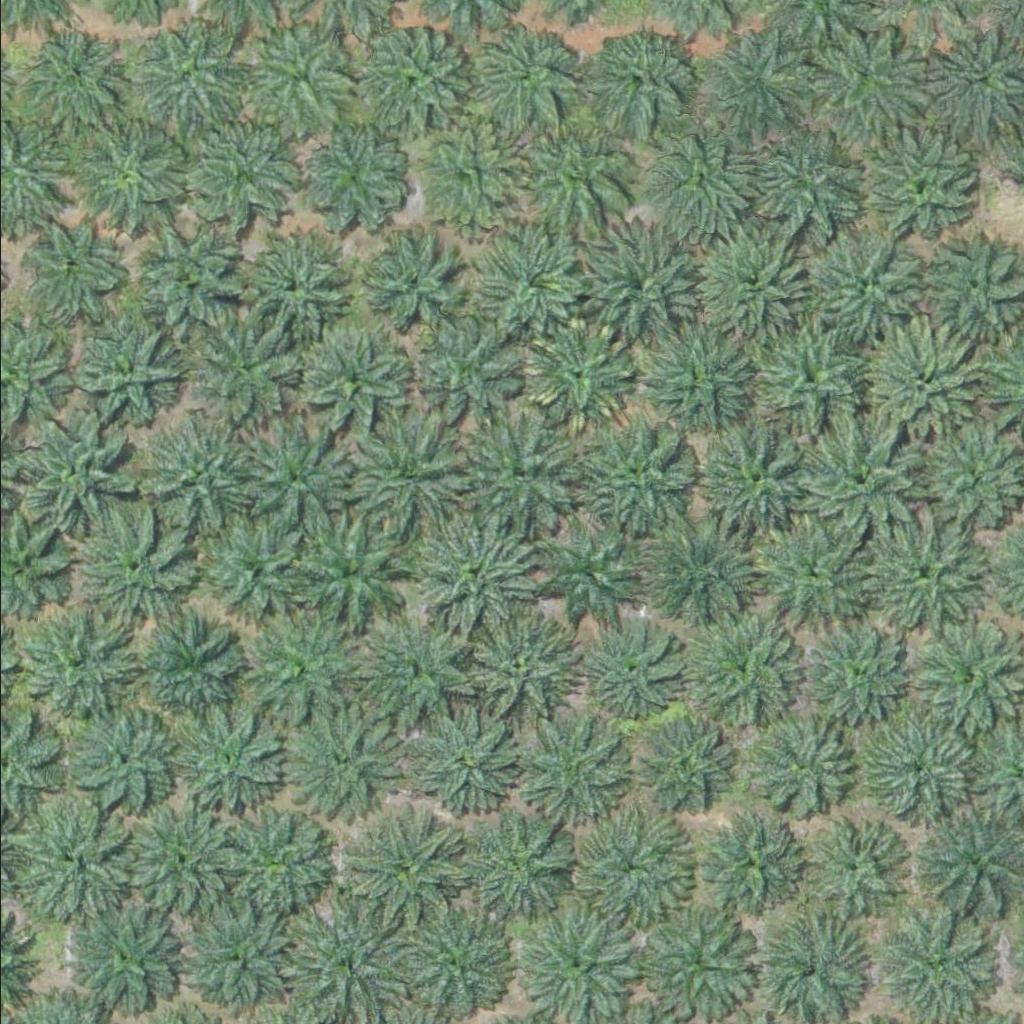Kelapa_Sawit: (851, 128, 977, 253), (851, 334, 977, 459), (569, 807, 695, 932), (447, 806, 573, 931), (335, 806, 461, 931), (793, 613, 919, 738), (456, 601, 582, 726), (345, 609, 471, 734), (410, 505, 536, 630), (640, 509, 766, 634), (747, 505, 873, 630), (855, 512, 981, 637), (797, 417, 923, 542), (694, 413, 820, 538), (575, 413, 701, 538), (455, 411, 581, 536), (340, 401, 466, 526), (805, 22, 931, 147), (232, 417, 358, 542), (138, 415, 264, 540), (3, 410, 129, 535), (293, 507, 419, 632), (194, 511, 320, 636), (73, 507, 199, 632), (238, 599, 364, 724), (156, 693, 282, 818), (279, 696, 405, 821), (116, 803, 242, 928), (8, 802, 134, 927), (517, 898, 642, 1023), (854, 707, 979, 832), (211, 803, 336, 928), (751, 325, 865, 438), (643, 325, 757, 438), (18, 611, 132, 724), (738, 708, 851, 821), (518, 120, 631, 233), (412, 114, 525, 227), (351, 26, 464, 139), (467, 16, 580, 129), (583, 26, 696, 139), (701, 31, 814, 144), (301, 124, 414, 237), (231, 232, 344, 345), (186, 119, 299, 232), (73, 119, 186, 232), (135, 217, 248, 330), (131, 614, 244, 727), (65, 898, 178, 1011), (179, 899, 292, 1012), (691, 228, 805, 340), (802, 232, 916, 344), (183, 311, 297, 423), (751, 910, 864, 1022), (796, 812, 909, 924), (408, 700, 521, 812), (514, 716, 627, 828), (679, 613, 792, 725), (522, 319, 635, 431), (406, 318, 519, 430), (353, 225, 466, 337), (477, 225, 590, 337), (579, 232, 692, 344), (745, 124, 858, 236), (644, 123, 757, 235), (297, 326, 410, 438), (235, 24, 348, 136), (128, 20, 241, 132), (71, 313, 184, 425), (61, 704, 174, 816), (698, 812, 799, 912), (632, 716, 733, 816), (582, 621, 683, 721), (19, 28, 120, 128), (19, 216, 120, 316), (542, 523, 642, 623)
